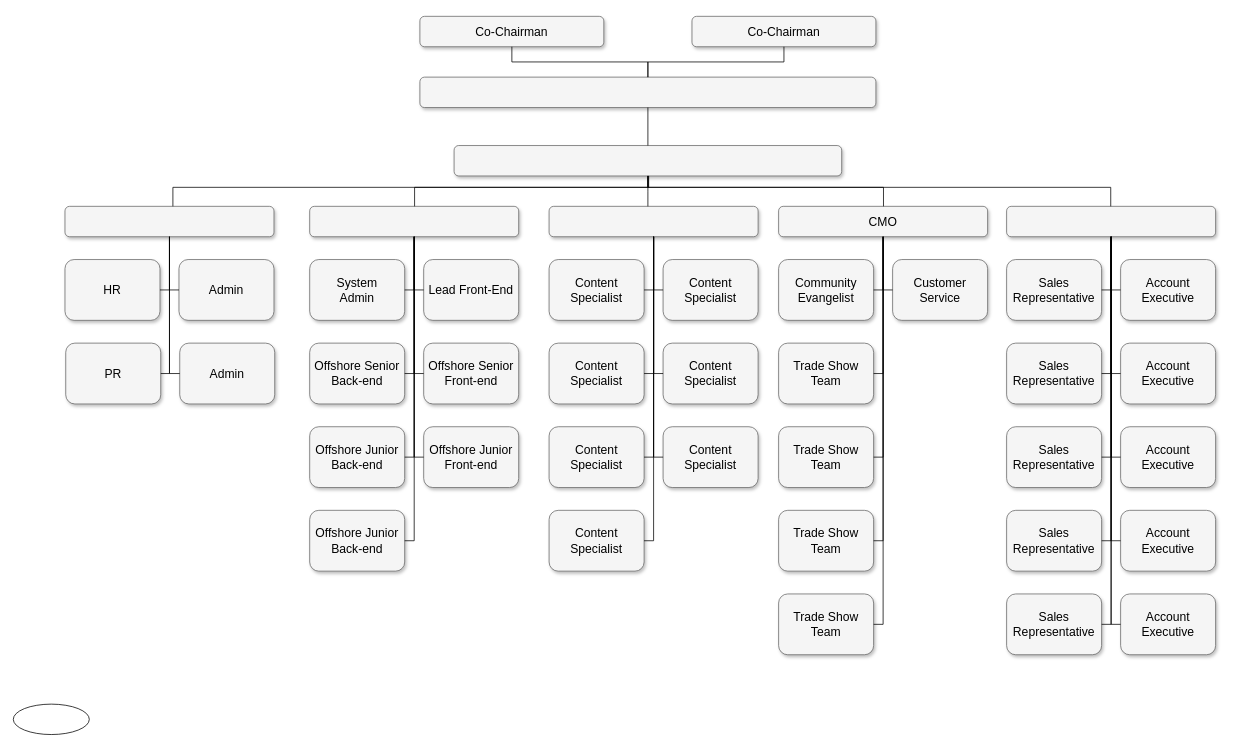
Image size: 1233x748. Some labels were removed from this diagram. The centre of each missing label's shape, as x and y in pixels:
CCO: the point at 654,222
Central Idea: the point at 51,719
CEO: the point at 648,93
CFO: the point at 170,222
COO: the point at 648,161
CSO: the point at 1111,222
CTO: the point at 414,222
